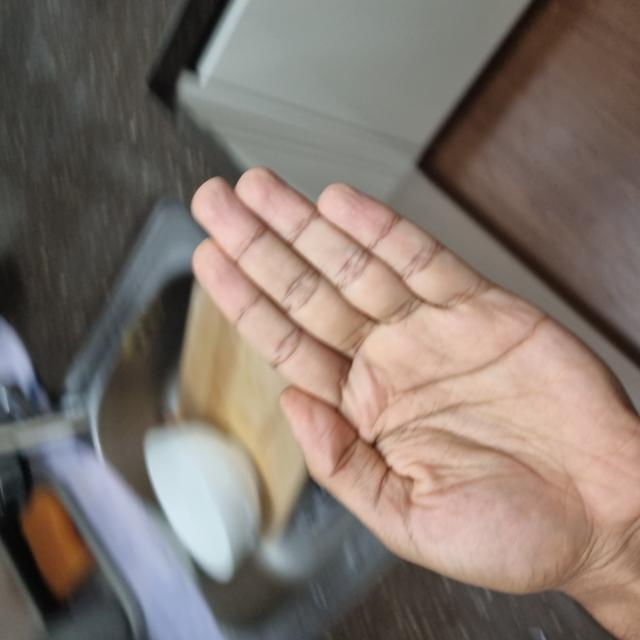Paper: (52, 189, 470, 640)
